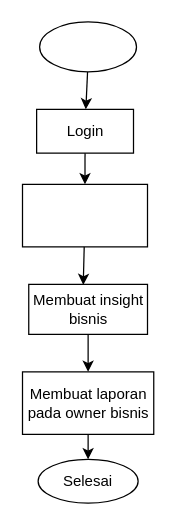
The diagram is 175 pixels wide and 525 high, and some of its shapes have lost their labels. Each missing label, with the centre of its shape:
Dashboard Analysis: point (84, 215)
Mulai: point (87, 46)
